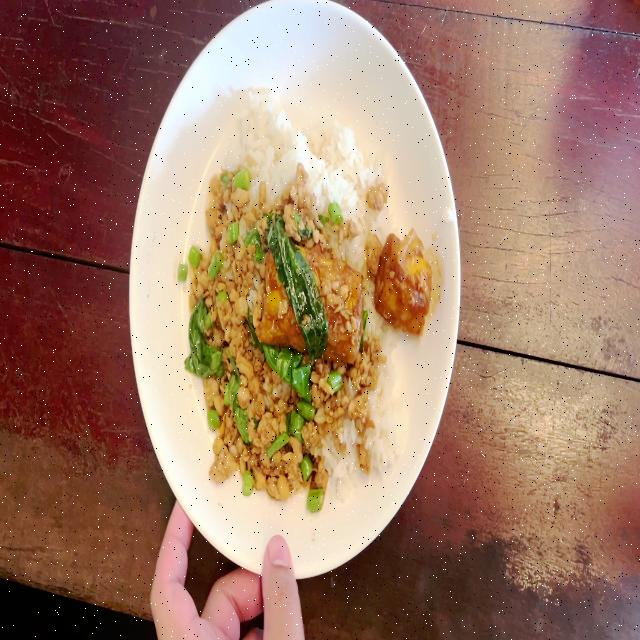fried_tofo: (258, 249, 362, 355), (379, 232, 434, 334)
minced_pork: (187, 168, 261, 497), (195, 415, 327, 503), (195, 358, 358, 414), (261, 191, 356, 245), (356, 347, 380, 469), (369, 184, 389, 210)
rice: (240, 77, 366, 204), (374, 338, 400, 476), (326, 415, 356, 479)
stir_fried_basil: (187, 78, 429, 504)
